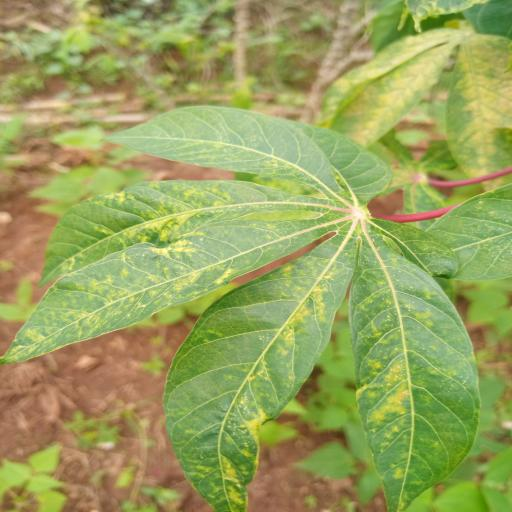Cassava_Mosaic: (4, 104, 496, 506)
